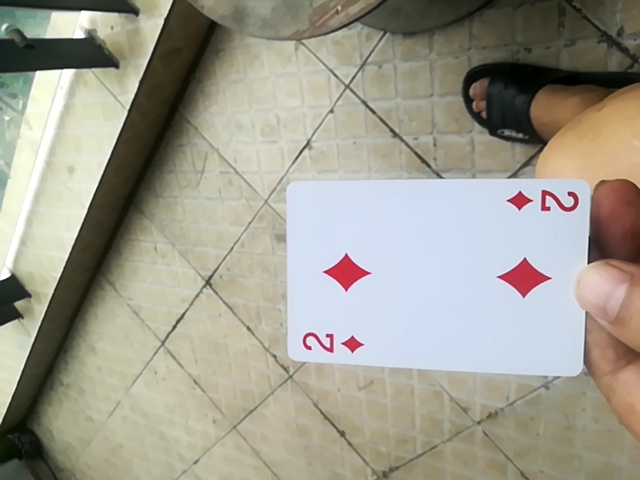fk 2: (283, 177, 601, 379)
